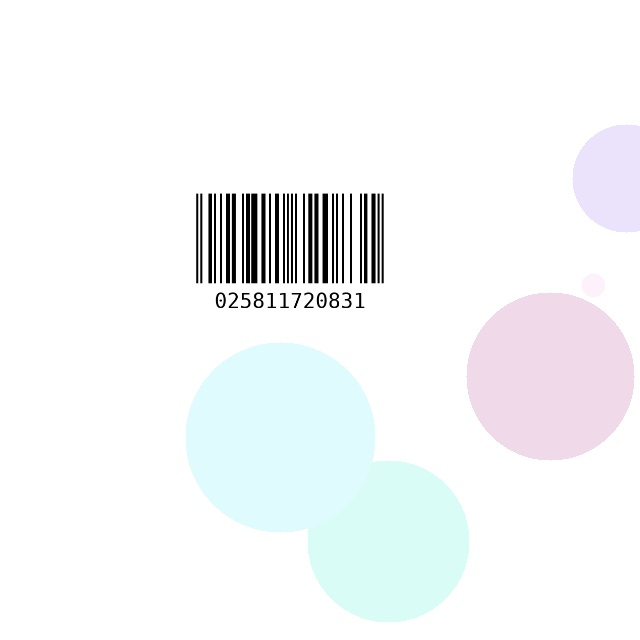barcode: (158, 188, 422, 329)
